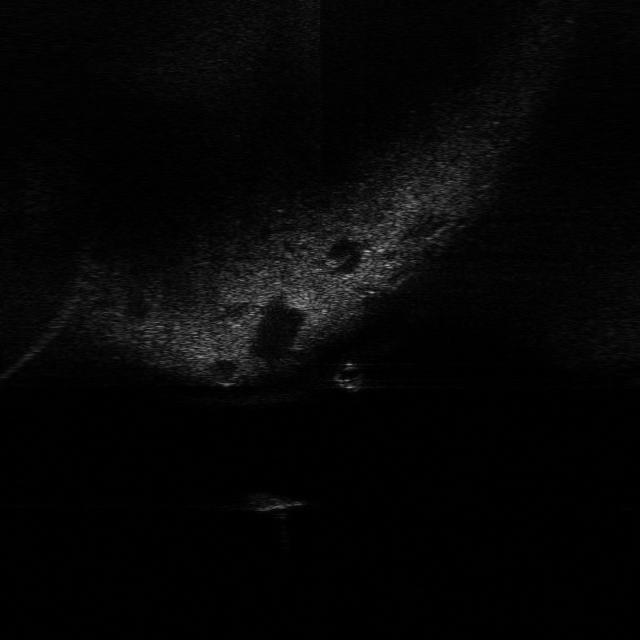ball: (330, 357, 370, 394)
cube: (242, 490, 309, 518)
